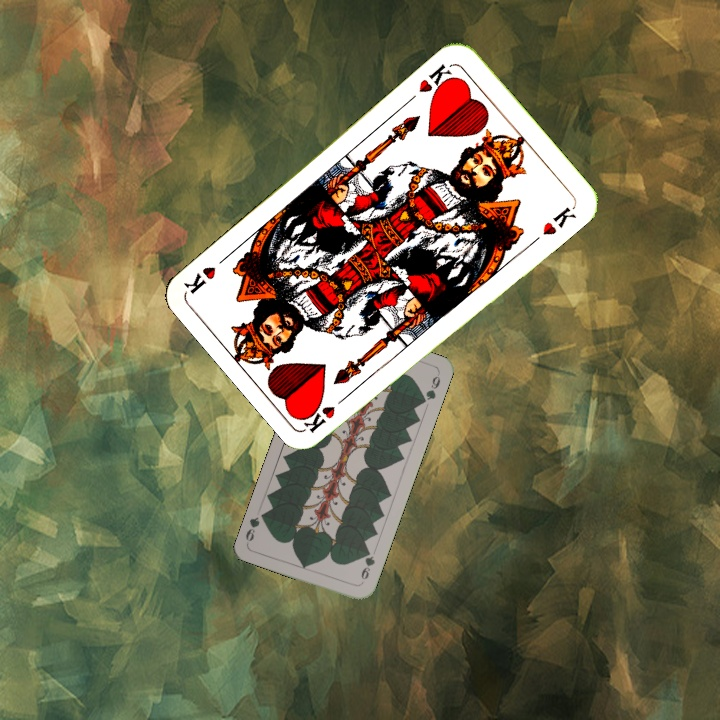G9: (357, 546, 377, 586)
HK: (301, 388, 353, 435), (415, 59, 458, 100)
